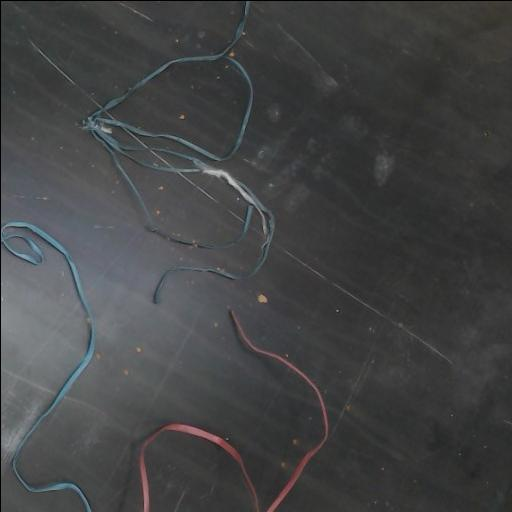conveyor belt: (1, 1, 512, 512), (1, 245, 84, 512), (113, 61, 245, 154), (122, 159, 244, 243), (146, 433, 253, 512)
thread: (83, 1, 252, 220), (1, 221, 95, 512), (142, 143, 274, 303), (230, 311, 328, 512), (139, 423, 261, 512)
